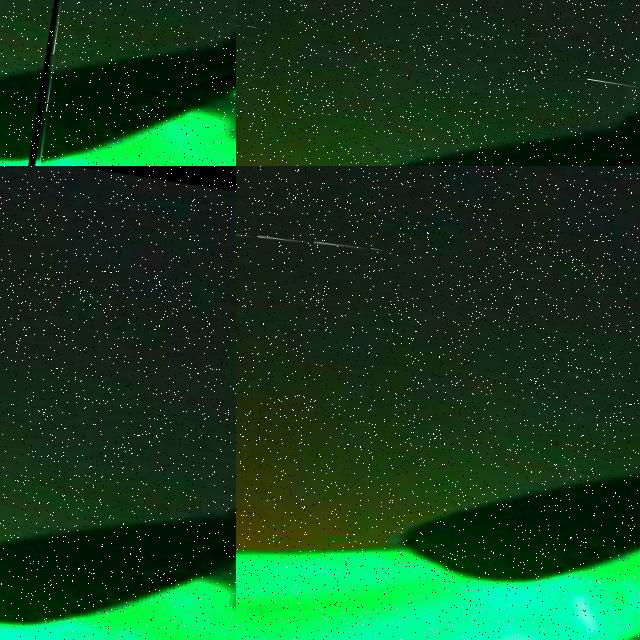drone: (236, 225, 640, 640), (236, 2, 640, 166), (0, 0, 236, 166)
